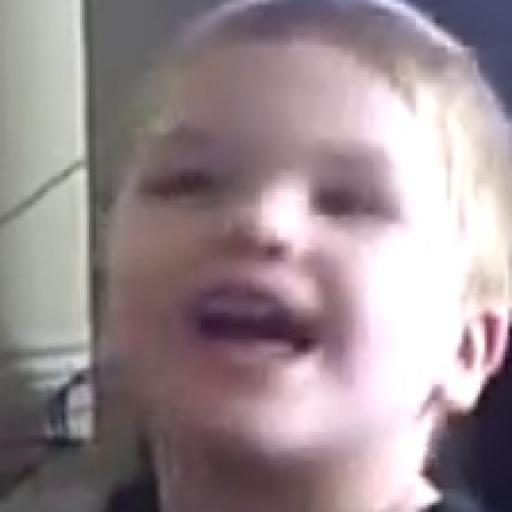Autism: (38, 0, 512, 481)
